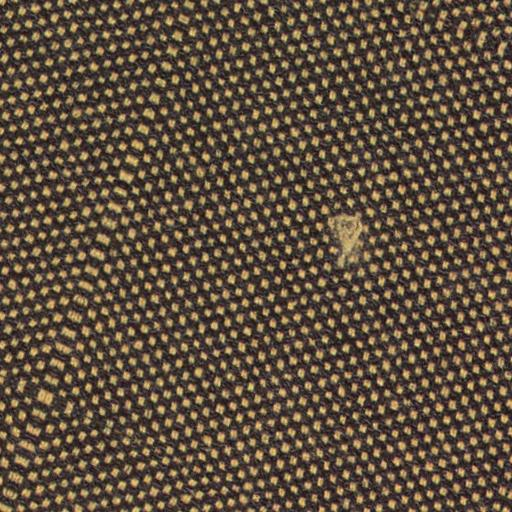knot: (324, 210, 371, 272)
